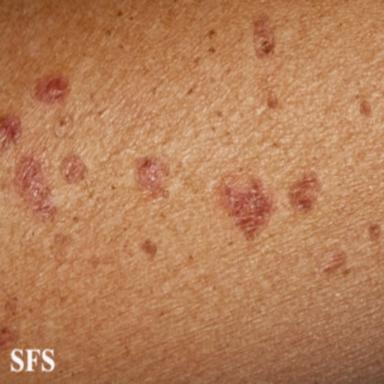Porokeratosis: (216, 173, 274, 239), (14, 155, 56, 221), (135, 155, 169, 197), (288, 172, 321, 211), (31, 74, 69, 104), (253, 15, 275, 58), (60, 153, 88, 184), (0, 115, 22, 152), (321, 249, 347, 273), (53, 112, 73, 138), (368, 224, 380, 240), (360, 100, 371, 116)
